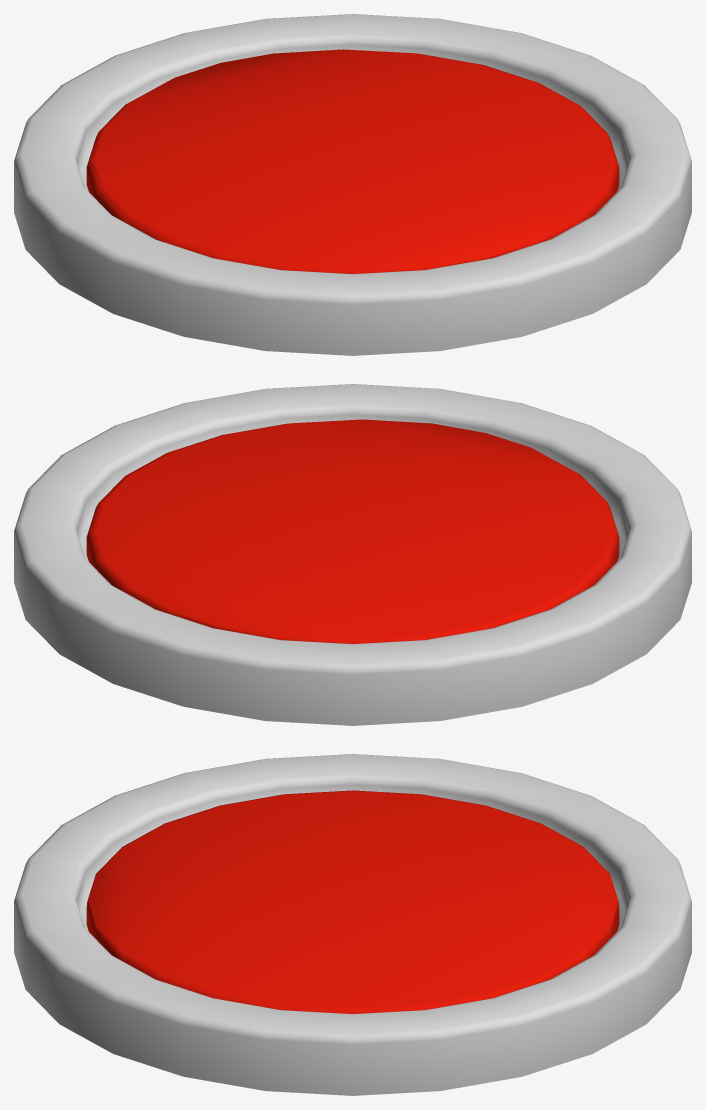
Rendered from Ginger_biscuit_00.fbx.
The picture shows the model from 3 angles, top to bottom: view 1: azimuth 30°, elevation 25°; view 2: azimuth 150°, elevation 25°; view 3: azimuth 270°, elevation 25°; orthographic projection.
Parts seen in each view (by area): view 1: Ginger_biscuit_00; view 2: Ginger_biscuit_00; view 3: Ginger_biscuit_00.
Part boxes in pixels (x1,y1,x2,y2): Ginger_biscuit_00: (14, 14, 691, 355); Ginger_biscuit_00: (14, 384, 691, 725); Ginger_biscuit_00: (14, 754, 691, 1095).
Bounding box in the file's own units: 32.09 × 3.06 × 32.09.
